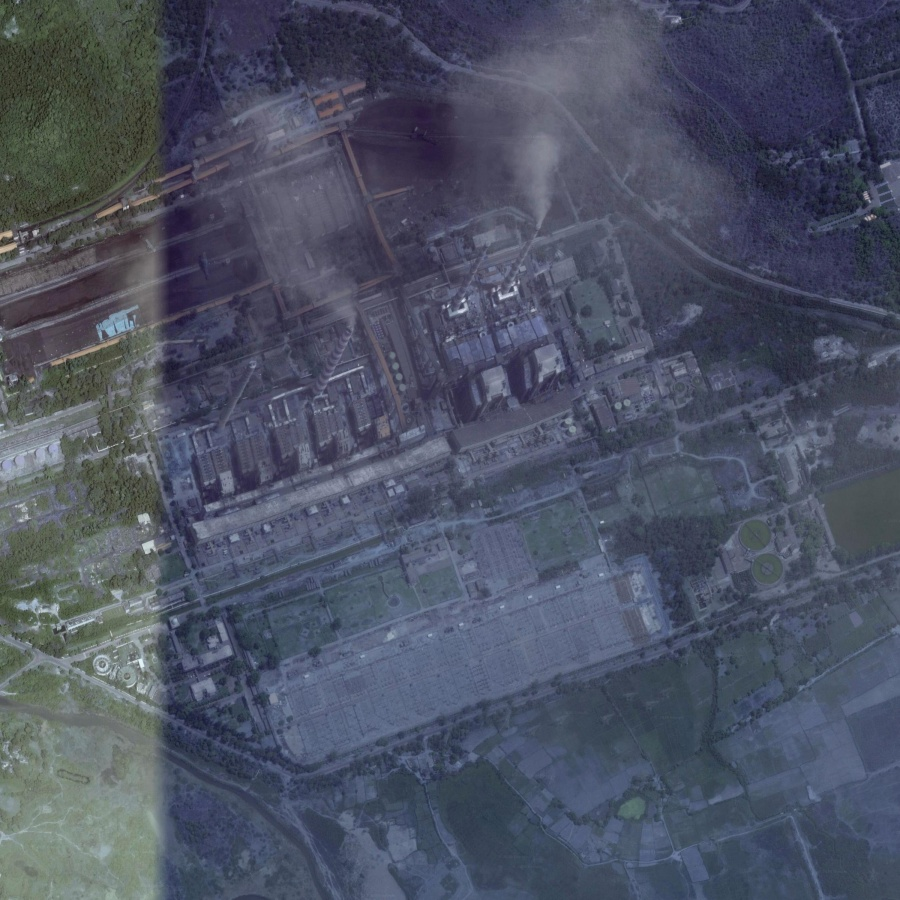PowerPlant: (189, 76, 644, 489)
